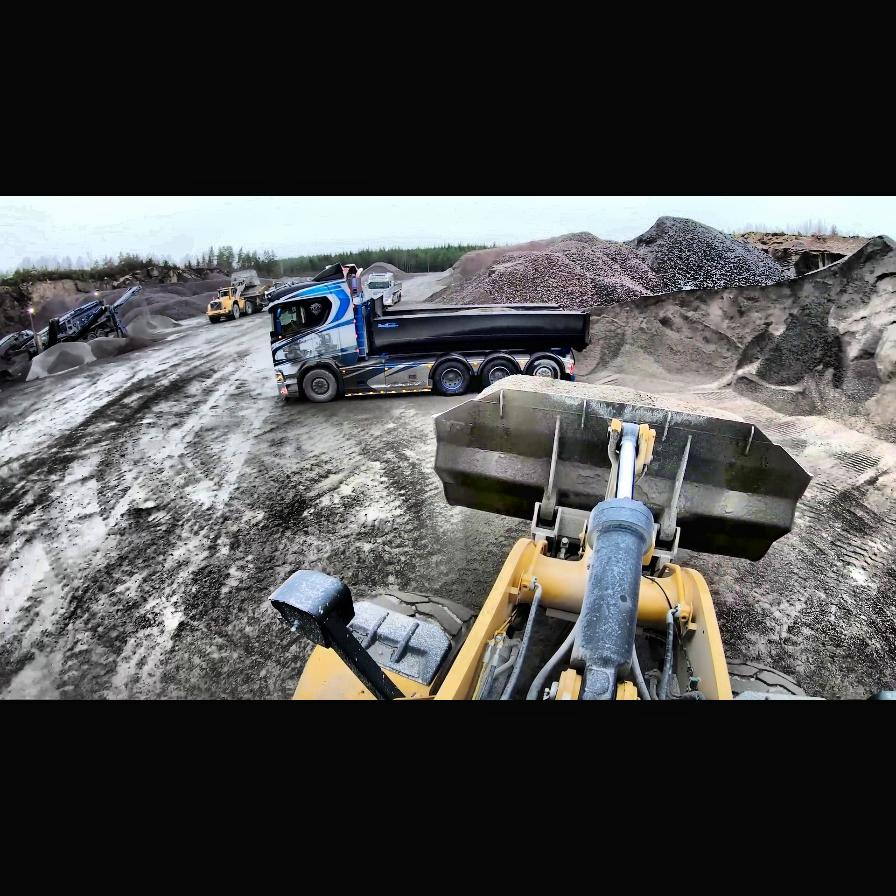anchor: (606, 418, 656, 500)
pile of gravel: (475, 234, 896, 422), (484, 232, 658, 307), (621, 217, 793, 291), (19, 336, 153, 382), (127, 314, 181, 338)
